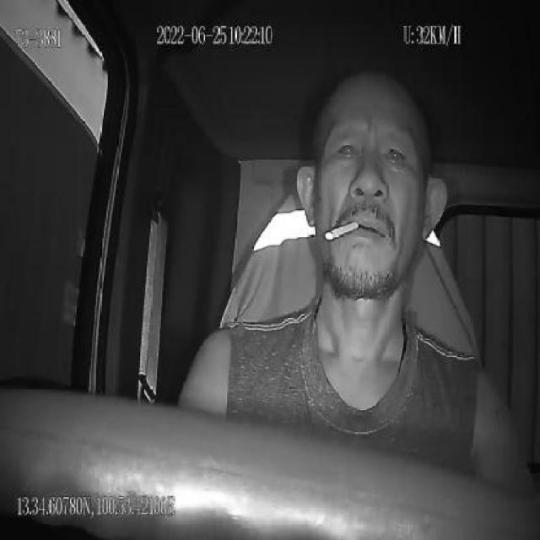smoking: (324, 220, 358, 243)
